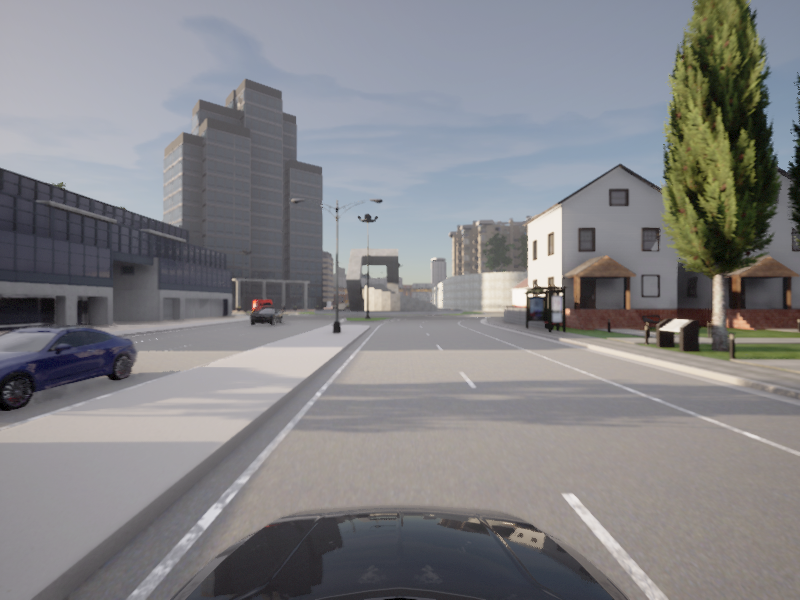vehicle: (0, 0, 799, 460), (0, 322, 149, 422), (246, 306, 285, 326)
